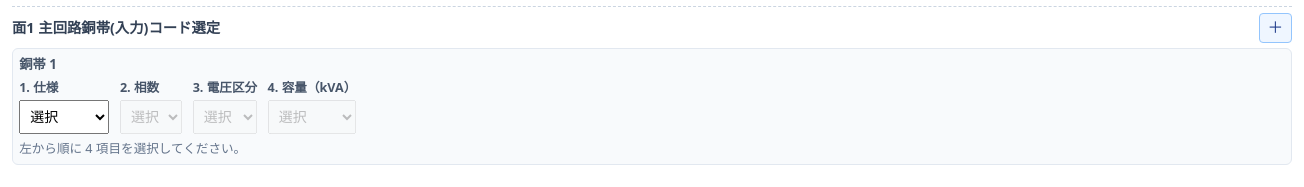
Test: BusbarSelector › resets later stages when an earlier stage changes, hiding the code
Select "標準仕様" in the dropdown named "面1 銅帯1 仕様": (64, 117) 19,100 -> 109,134
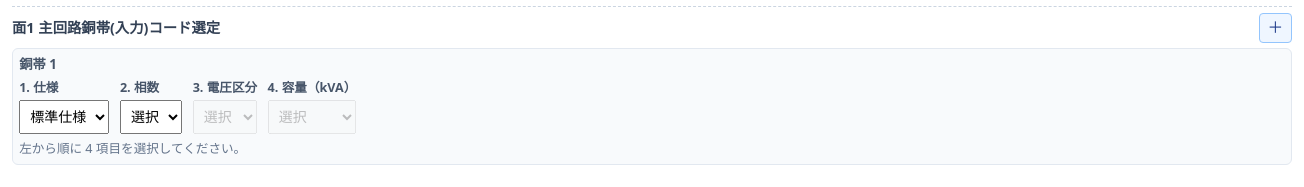
Select "3Φ" in the dropdown named "面1 銅帯1 相数": (151, 117) 120,100 -> 182,134
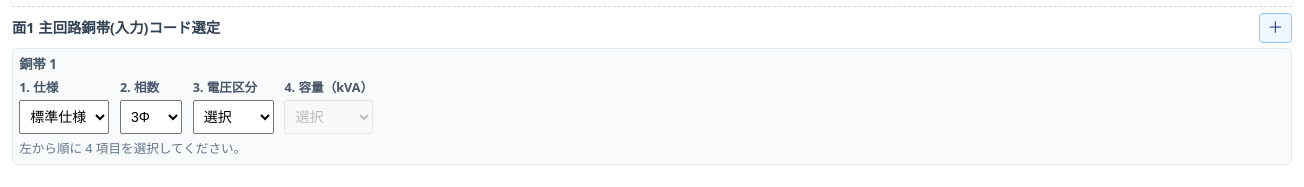
Select "200V級" in the dropdown named "面1 銅帯1 電圧区分": (233, 117) 193,100 -> 274,134
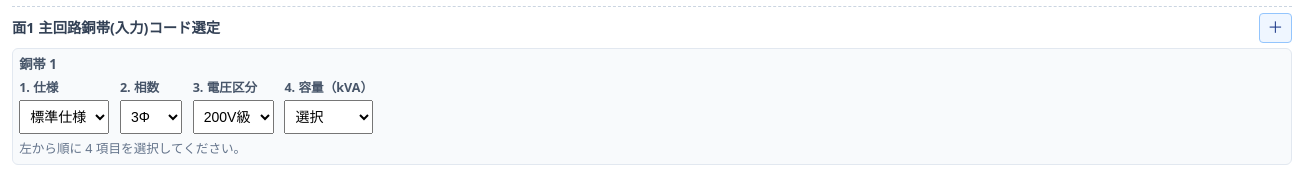
Select "100" in the dropdown named "面1 銅帯1 容量（kVA）": (329, 117) 284,100 -> 373,134
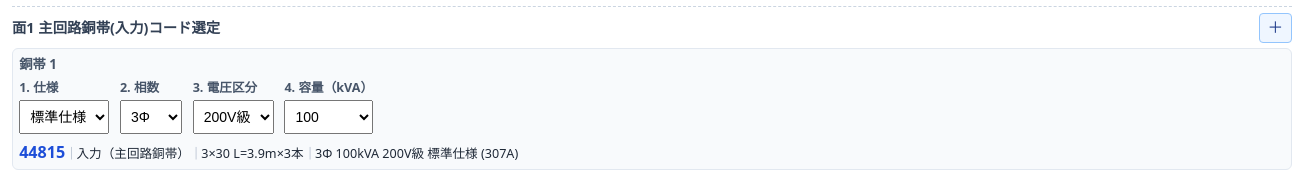
expect the text with class "busbar-selector__code" reads "44815": met, box 19,141 -> 65,163
Select "400V級" in the dropdown named "面1 銅帯1 電圧区分": (233, 117) 193,100 -> 274,134
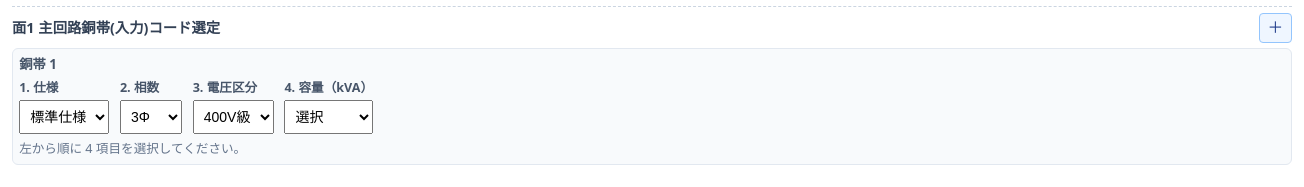
expect the text with class "busbar-selector__code" is gone: met
Select "公共建築" in the dropdown named "面1 銅帯1 仕様": (64, 117) 19,100 -> 109,134
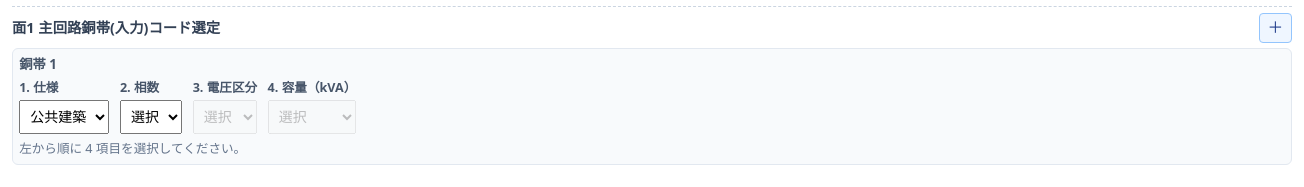
expect the dropdown named "面1 銅帯1 電圧区分" is disabled: met, box 193,100 -> 257,134
